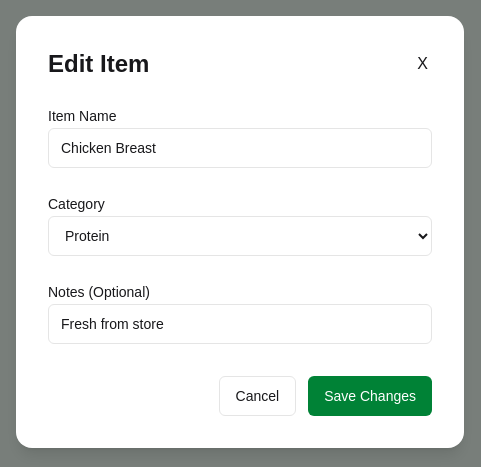
Test case: EditItemModal Component › disables buttons while save is in progress
This screenshot has width=481, height=467.
Click the button "Save Changes" at [370, 396], box x1=308 y1=376 x2=432 y2=416
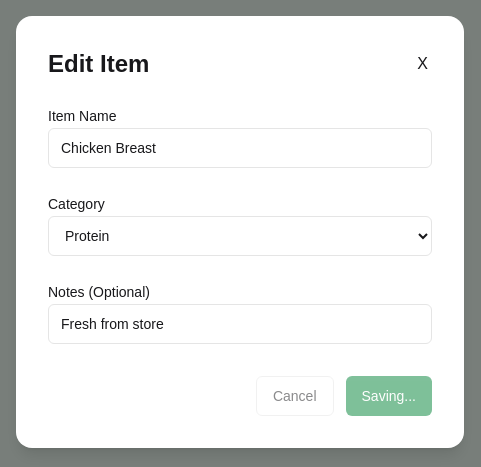
Expected: the button "Saving..." is disabled, x1=346 y1=376 x2=432 y2=416
Expected: the button "Cancel" is disabled, x1=256 y1=376 x2=334 y2=416
